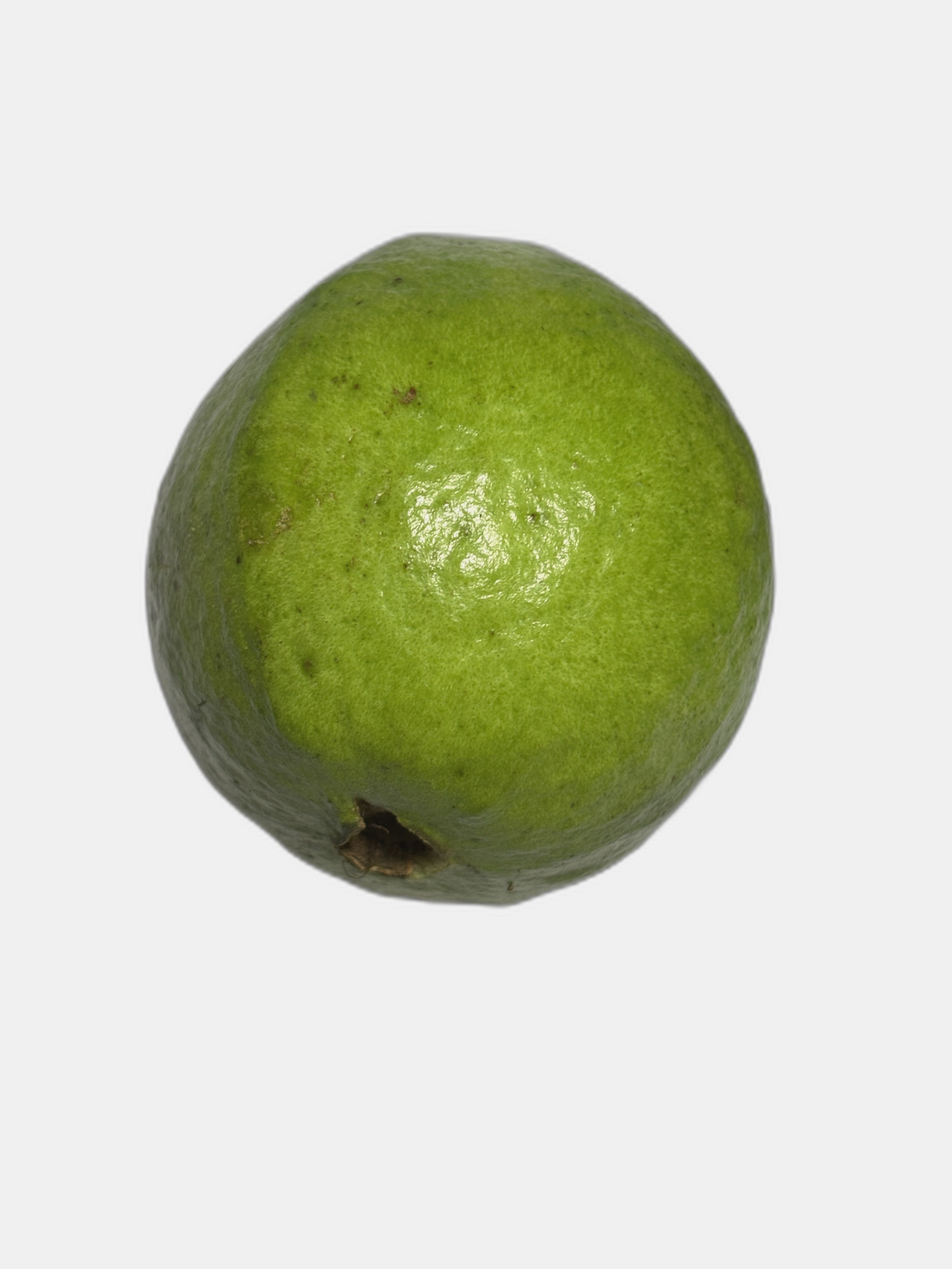guava: (203, 129, 905, 1269)
